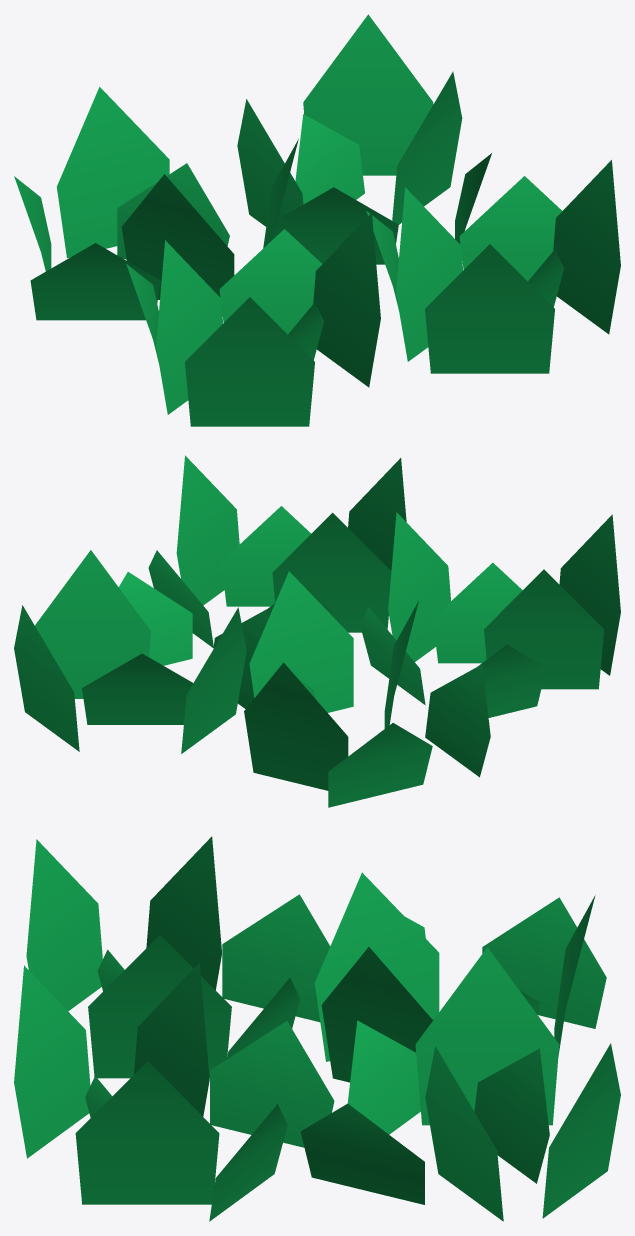
The model's file is grassLarge.obj.
3 renders of one model, top to bottom at view 1: azimuth 30°, elevation 25°; view 2: azimuth 150°, elevation 25°; view 3: azimuth 270°, elevation 25°, orthographic. The views are drawn at different scales.
Visible parts, largest first — view 1: grassLarge; view 2: grassLarge; view 3: grassLarge.
Boxes of the visible parts, box(x1,y1,x2,y2) form: grassLarge: box(14, 14, 620, 426); grassLarge: box(14, 455, 620, 807); grassLarge: box(14, 836, 620, 1221).
Size of the model in its own units: 0.4759 by 0.1425 by 0.4873.
